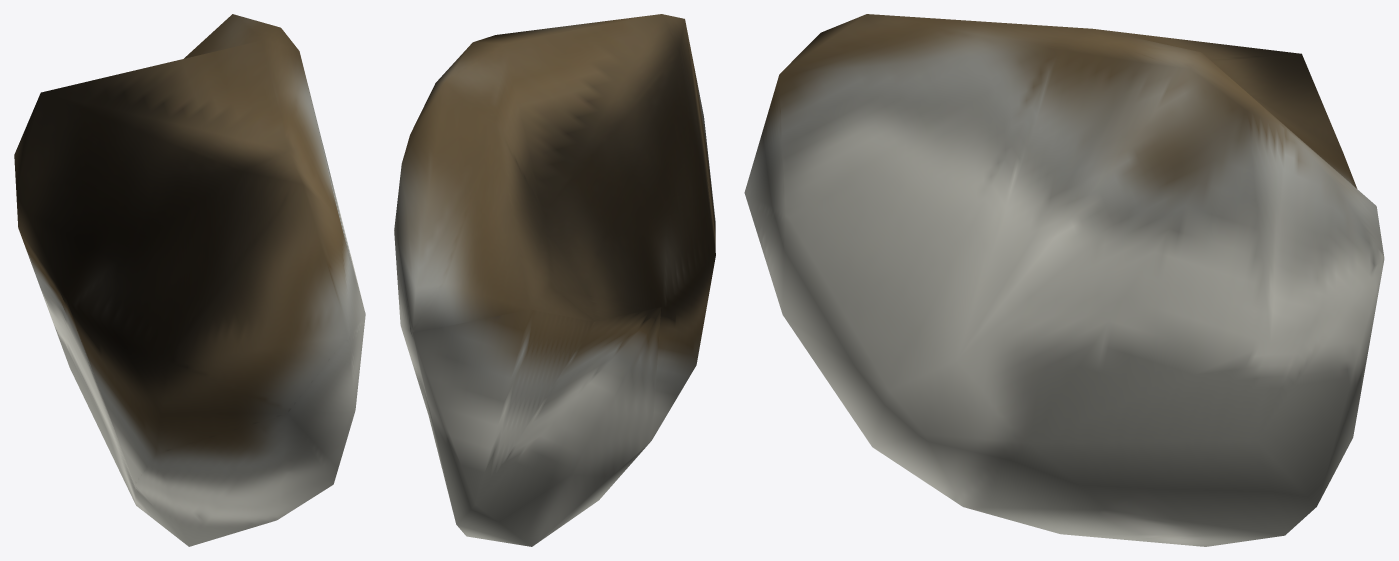
The model's file is THROWINGSTONE.fbx.
3 renders of one model, left to right at view 1: azimuth 30°, elevation 25°; view 2: azimuth 150°, elevation 25°; view 3: azimuth 270°, elevation 25°, orthographic. The views are drawn at different scales.
Parts seen in each view (by area): view 1: THROWINGSTONE; view 2: THROWINGSTONE; view 3: THROWINGSTONE.
Boxes of the visible parts, box(x1,y1,x2,y2) form: THROWINGSTONE: box(14, 14, 365, 546); THROWINGSTONE: box(394, 14, 715, 546); THROWINGSTONE: box(744, 14, 1384, 546).
Size of the model in its own units: 316 by 681 by 702.
1 material, 1 textured.
